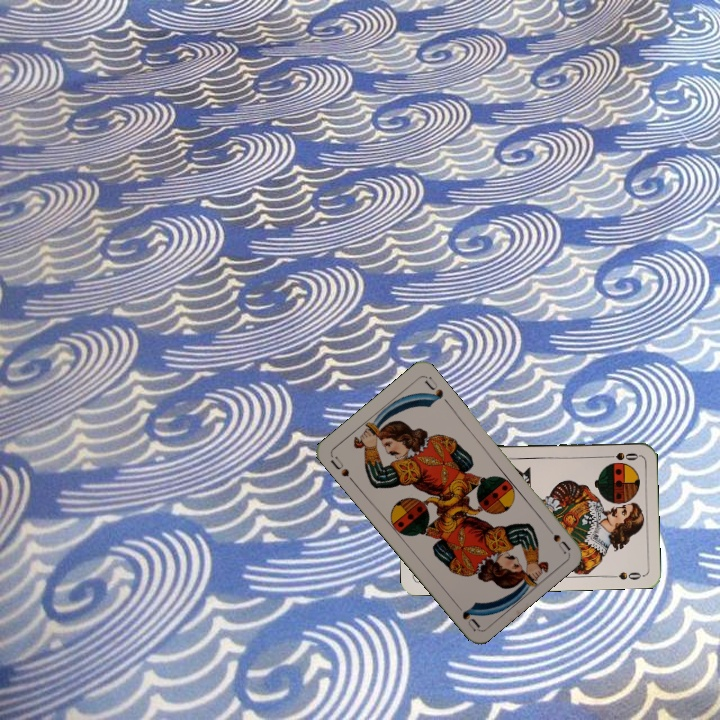SO: (600, 448, 641, 463)
SU: (540, 520, 573, 556), (327, 452, 358, 486)
